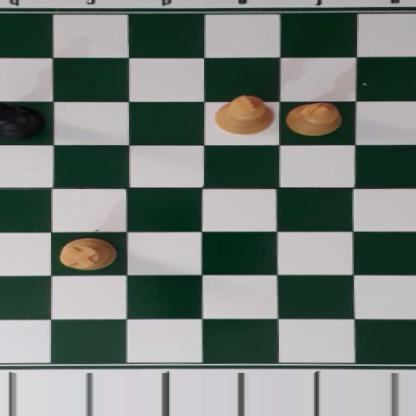black-king: (0, 102, 45, 138)
white-bishop: (284, 101, 339, 134)
white-king: (214, 94, 276, 135)
white-rook: (57, 238, 116, 270)
